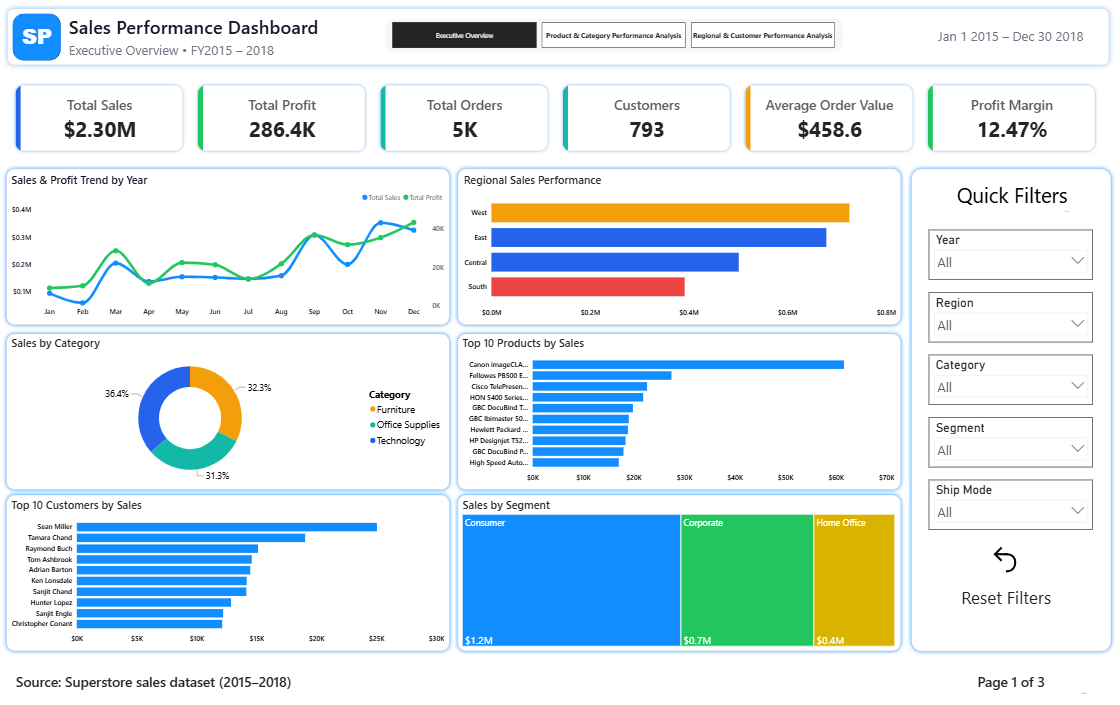

The page's visual inventory and layout, read from the dashboard file:
{"tool":"powerbi","page":{"name":"Executive Overview","canvas":[2200,1400],"ordinal":0},"visuals":[{"type":"shape","box":[15.6,15.6,2168.9,130],"z":0},{"type":"shape","box":[33.7,33.7,94.4,92.2],"z":1000},{"type":"textbox","title":"SP","box":[33.7,49.5,94.4,60.7],"z":2000},{"type":"textbox","title":"Sales Performance Dashboard","box":[140,35,620,81.2],"z":3000},{"type":"textbox","title":"Jan 1 2015 – Dec 30 2018","box":[1822.5,61.2,320,31.2],"z":4000},{"type":"shape","box":[760,45,895,65],"z":5000},{"type":"shape","box":[1780,330,405,957.5],"z":9000},{"type":"textbox","title":"Quick Filters","box":[1867.5,360,232.5,65],"z":10000},{"type":"slicer","fields":{"Values":["Superstore_Cleaned.Order_Year"]},"box":[1822.5,455,320,97.5],"z":11000},{"type":"cardVisual","fields":{"Data":["Superstore_Cleaned.Total Sales","Superstore_Cleaned.Total Profit","Superstore_Cleaned.Total Orders","Superstore_Cleaned.Total Customers","Superstore_Cleaned.Average Order Value","Superstore_Cleaned.Profit Margin %"]},"box":[11.2,146.2,2167.7,184.4],"z":12000},{"type":"shape","box":[15,330,880,320],"z":13000},{"type":"actionButton","box":[1930,1067.5,82.5,62.5],"z":14000},{"type":"textbox","title":"Reset Filters","box":[1870,1150,205,50],"z":15000},{"type":"shape","box":[895,330,880,320],"z":16000},{"type":"lineChart","title":"Sales & Profit Trend by Year","fields":{"Category":["Superstore_Cleaned.Order_Month_Name"],"Y":["Superstore_Cleaned.Total Sales"],"Y2":["Superstore_Cleaned.Total Profit"]},"box":[28,343.3,855.3,292],"z":17000},{"type":"shape","box":[15.7,966.9,880,320],"z":18000},{"type":"shape","box":[895,650,880,320],"z":19000},{"type":"shape","box":[15,650,880,320],"z":20000},{"type":"clusteredBarChart","title":"Regional Sales Performance","fields":{"Y":["Superstore_Cleaned.Total Sales"],"Category":["Superstore_Cleaned.Region"]},"box":[908.7,343.3,853.3,294],"z":21000},{"type":"clusteredBarChart","title":"Top 10 Products by Sales","fields":{"Category":["Superstore_Cleaned.Product Name"],"Y":["Superstore_Cleaned.Total Sales"]},"box":[908.3,660,853.3,297.5],"z":22000},{"type":"clusteredBarChart","title":"Top 10 Customers by Sales","fields":{"Category":["Superstore_Cleaned.Customer Name"],"Y":["Superstore_Cleaned.Total Sales"]},"box":[27.8,978.9,855.6,295.6],"z":23000},{"type":"shape","box":[895,966.7,880,320],"z":24000},{"type":"donutChart","title":"Sales by Category","fields":{"Category":["Superstore_Cleaned.Category"],"Y":["Superstore_Cleaned.Total Sales"]},"box":[27.5,660,855.8,296.7],"z":25000},{"type":"treemap","title":"Sales by Segment","fields":{"Group":["Superstore_Cleaned.Segment"],"Values":["Superstore_Cleaned.Total Sales"]},"box":[908.3,979.2,853.3,295.8],"z":26000},{"type":"slicer","fields":{"Values":["Superstore_Cleaned.Region"]},"box":[1822.5,577.5,320,97.5],"z":27000},{"type":"slicer","fields":{"Values":["Superstore_Cleaned.Category"]},"box":[1822.5,700,320,97.5],"z":28000},{"type":"slicer","fields":{"Values":["Superstore_Cleaned.Segment"]},"box":[1822.5,822.5,320,97.5],"z":29000},{"type":"slicer","fields":{"Values":["Superstore_Cleaned.Ship Mode"]},"box":[1822.5,945,320,97.5],"z":30000},{"type":"textbox","title":"Source: Superstore sales dataset (2015–2018)","box":[11.8,1318.4,594.3,42.5],"z":31000},{"type":"textbox","title":"Page 1 of 3","box":[1832.6,1318.4,301.9,47.2],"z":32000},{"type":"pageNavigator","box":[775.4,51.5,864.6,50],"z":32001}]}

Visuals, with their boxes in screenshot pixels (x1, y1, x2, y2), scaled from the page's 2200x1400 canvas onto the 1120x705 screenshot:
shape: 8, 8, 1112, 73
shape: 17, 17, 65, 63
"SP" textbox: 17, 25, 65, 55
"Sales Performance Dashboard" textbox: 71, 18, 387, 59
"Jan 1 2015 – Dec 30 2018" textbox: 928, 31, 1091, 47
shape: 387, 23, 843, 55
shape: 906, 166, 1112, 648
"Quick Filters" textbox: 951, 181, 1069, 214
slicer - Superstore_Cleaned.Order_Year: 928, 229, 1091, 278
cardVisual - Superstore_Cleaned.Total Sales x Superstore_Cleaned.Total Profit: 6, 74, 1109, 166
shape: 8, 166, 456, 327
actionButton: 983, 538, 1025, 569
"Reset Filters" textbox: 952, 579, 1056, 604
shape: 456, 166, 904, 327
"Sales & Profit Trend by Year" lineChart: 14, 173, 450, 320
shape: 8, 487, 456, 648
shape: 456, 327, 904, 488
shape: 8, 327, 456, 488
"Regional Sales Performance" clusteredBarChart: 463, 173, 897, 321
"Top 10 Products by Sales" clusteredBarChart: 462, 332, 897, 482
"Top 10 Customers by Sales" clusteredBarChart: 14, 493, 450, 642
shape: 456, 487, 904, 648
"Sales by Category" donutChart: 14, 332, 450, 482
"Sales by Segment" treemap: 462, 493, 897, 642
slicer - Superstore_Cleaned.Region: 928, 291, 1091, 340
slicer - Superstore_Cleaned.Category: 928, 352, 1091, 402
slicer - Superstore_Cleaned.Segment: 928, 414, 1091, 463
slicer - Superstore_Cleaned.Ship Mode: 928, 476, 1091, 525
"Source: Superstore sales dataset (2015–2018)" textbox: 6, 664, 309, 685
"Page 1 of 3" textbox: 933, 664, 1087, 688
pageNavigator: 395, 26, 835, 51
